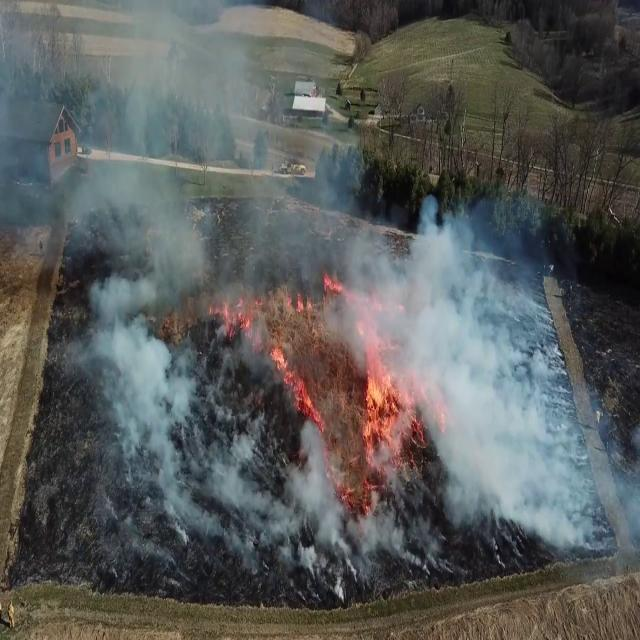Fire: (356, 328, 413, 477), (266, 334, 327, 431), (269, 278, 317, 318)
Smoke: (1, 2, 355, 570), (339, 191, 640, 580)
